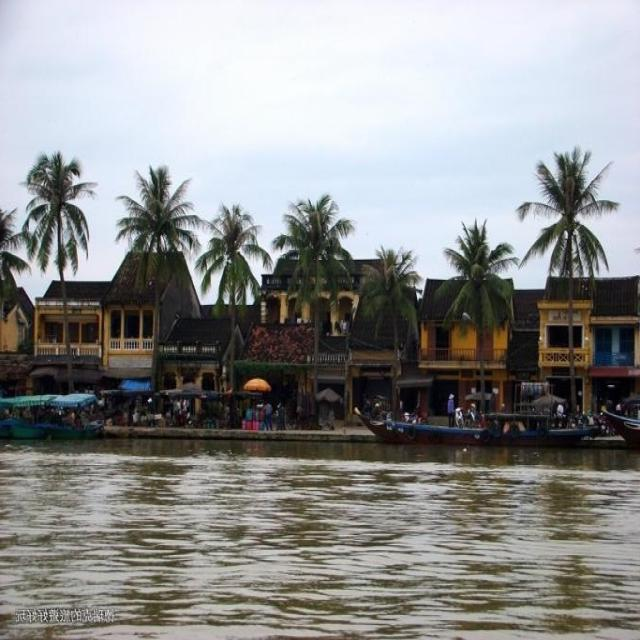boat: (352, 407, 494, 450), (498, 417, 591, 450), (37, 416, 108, 442)
